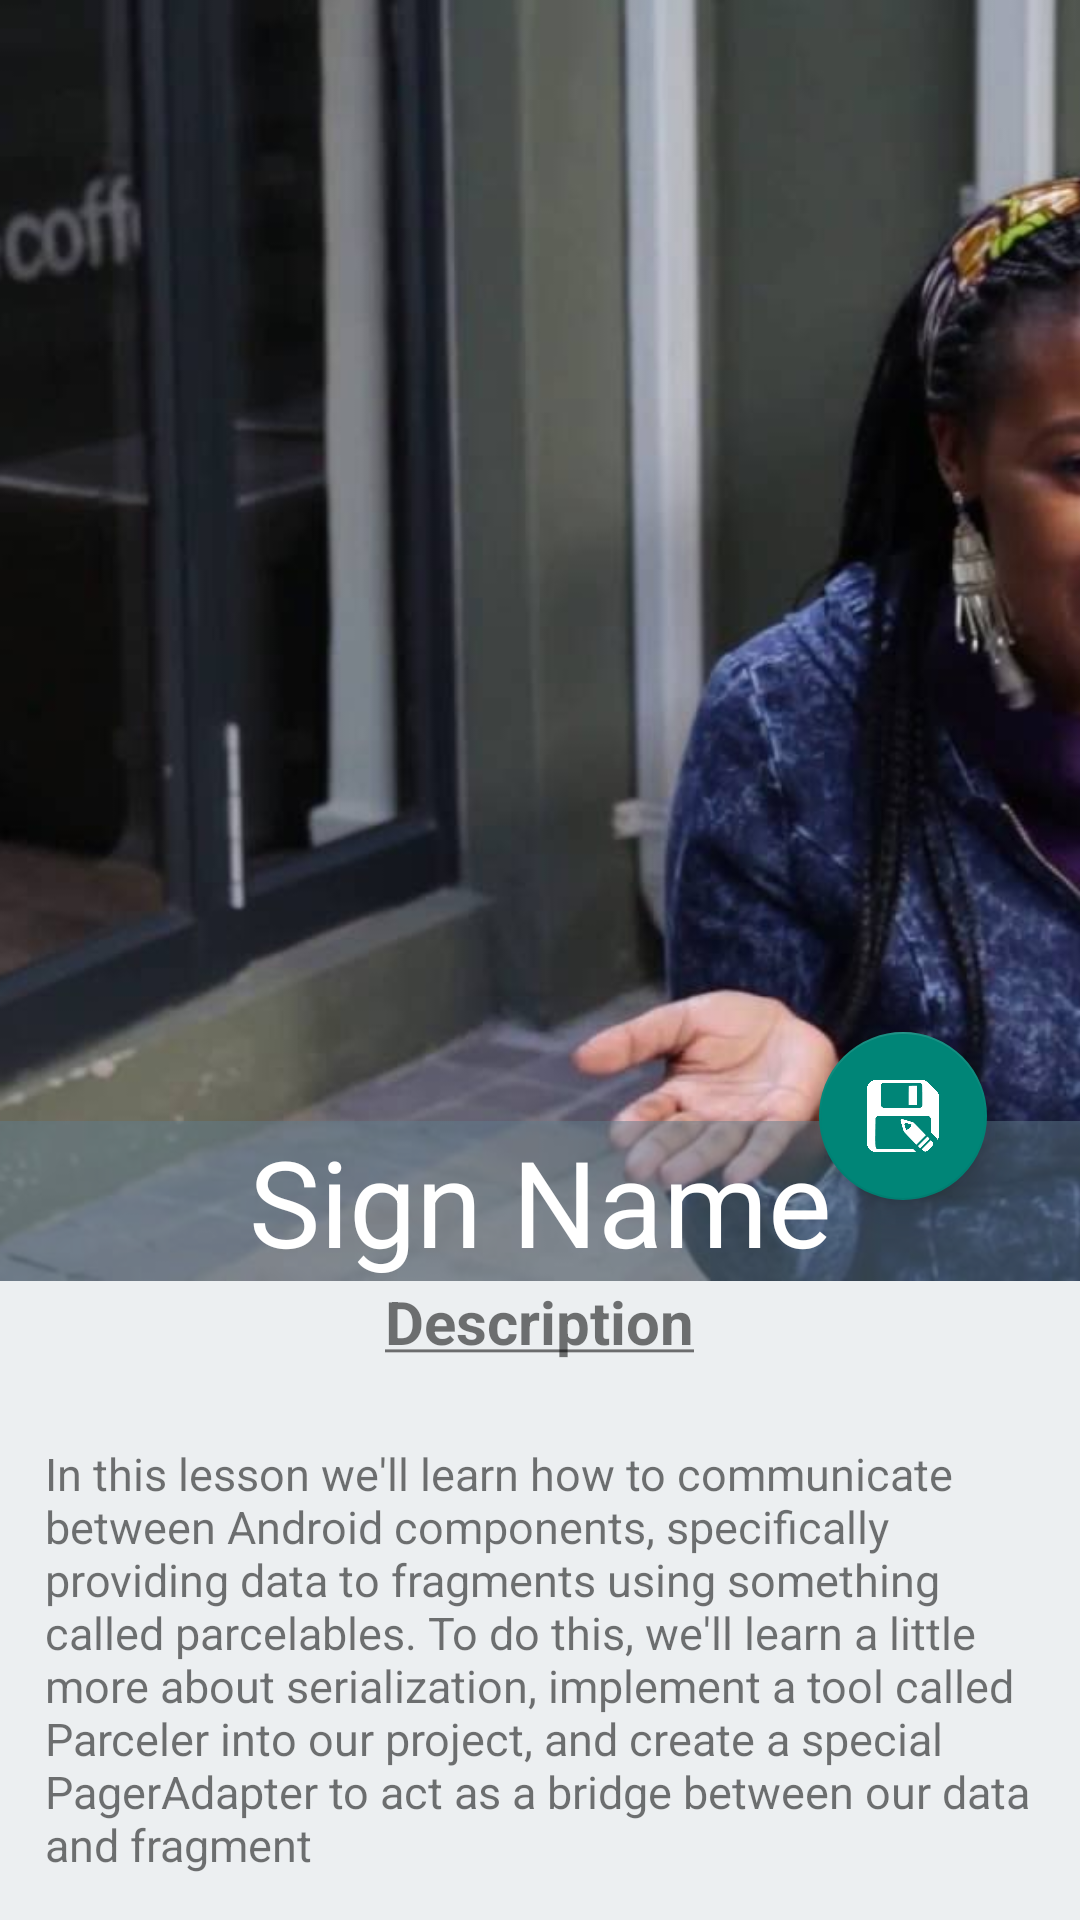

Where to tap for icons on this 1080×1920 app screen, as (x,y):
save: (903,1116)
